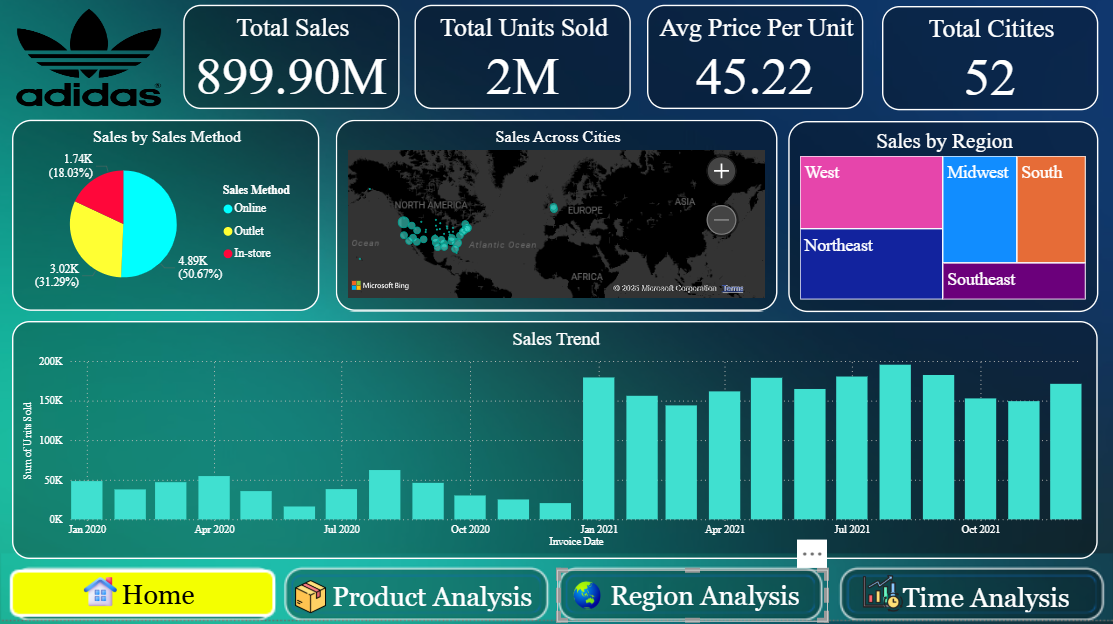

The page's visual inventory and layout, read from the dashboard file:
{"tool":"powerbi","page":{"name":"Home","canvas":[1280,720],"ordinal":0},"visuals":[{"type":"image","box":[0,631.4,1280,88.6],"z":1000},{"type":"image","box":[17.8,9.6,175.6,120.8],"z":2000},{"type":"card","title":"Total Sales","fields":{"Values":["Sum(Data Sales Adidas.Total Sales)"]},"box":[212.7,9.6,247,119.4],"z":3000},{"type":"card","title":"Total Units Sold","fields":{"Values":["Sum(Data Sales Adidas.Units Sold)"]},"box":[477.5,9.6,247,119.4],"z":4000},{"type":"map","title":"Sales Across Cities","fields":{"Category":["Data Sales Adidas.City"],"Size":["CountNonNull(Data Sales Adidas.City)"]},"box":[387,141.3,505,218.2],"z":5000},{"type":"pieChart","title":"Sales by Sales Method","fields":{"Category":["Data Sales Adidas.Sales Method"],"Y":["CountNonNull(Data Sales Adidas.Sales Method)"]},"box":[17.8,141.3,351.3,218.2],"z":6000},{"type":"card","title":"Avg Price Per Unit","fields":{"Values":["Avg(Data Sales Adidas.Price per Unit)"]},"box":[742.4,9.6,247,119.4],"z":7000},{"type":"card","title":"Total Citites","fields":{"Values":["Count(Data Sales Adidas.City)"]},"box":[1011.3,11,247,119.4],"z":8000},{"type":"treemap","title":"Sales by Region","fields":{"Details":["Data Sales Adidas.Region"],"Values":["CountNonNull(Data Sales Adidas.Region)"]},"box":[904.3,142.7,354,218.2],"z":9000},{"type":"image","box":[330,662.9,57.1,47.1],"z":10000},{"type":"image","box":[654.3,660,42.9,52.9],"z":11000},{"type":"image","box":[980,654.3,64.3,57.1],"z":12000},{"type":"actionButton","box":[330,652.9,298.6,67.1],"z":13000},{"type":"actionButton","box":[640,655.7,310,60],"z":14000},{"type":"actionButton","box":[964.3,657.1,304.3,60],"z":15000},{"type":"image","box":[651.4,655.7,45.7,57.1],"z":16000},{"type":"image","box":[85.7,657.1,64.3,47.1],"z":17000},{"type":"actionButton","box":[20,654.3,300,58.6],"z":18000},{"type":"columnChart","title":"Sales Trend","fields":{"Category":["Data Sales Adidas.Invoice Date.Variation.Date Hierarchy.Year"],"Y":["Sum(Data Sales Adidas.Units Sold)"]},"box":[17.8,371.9,1240.5,271.7],"z":18500}]}

Visuals, with their boxes in screenshot pixels (x1, y1, x2, y2), scaled from the page's 1280x720 canvas onto the 1113x624 screenshot:
image: 0:547:1112:623
image: 15:8:168:113
"Total Sales" card: 185:8:400:112
"Total Units Sold" card: 415:8:630:112
"Sales Across Cities" map: 337:122:776:312
"Sales by Sales Method" pieChart: 15:122:321:312
"Avg Price Per Unit" card: 646:8:860:112
"Total Citites" card: 879:10:1094:113
"Sales by Region" treemap: 786:124:1094:313
image: 287:575:337:615
image: 569:572:606:618
image: 852:567:908:617
actionButton: 287:566:547:623
actionButton: 556:568:826:620
actionButton: 838:569:1103:621
image: 566:568:606:618
image: 75:569:130:610
actionButton: 17:567:278:618
"Sales Trend" columnChart: 15:322:1094:558
